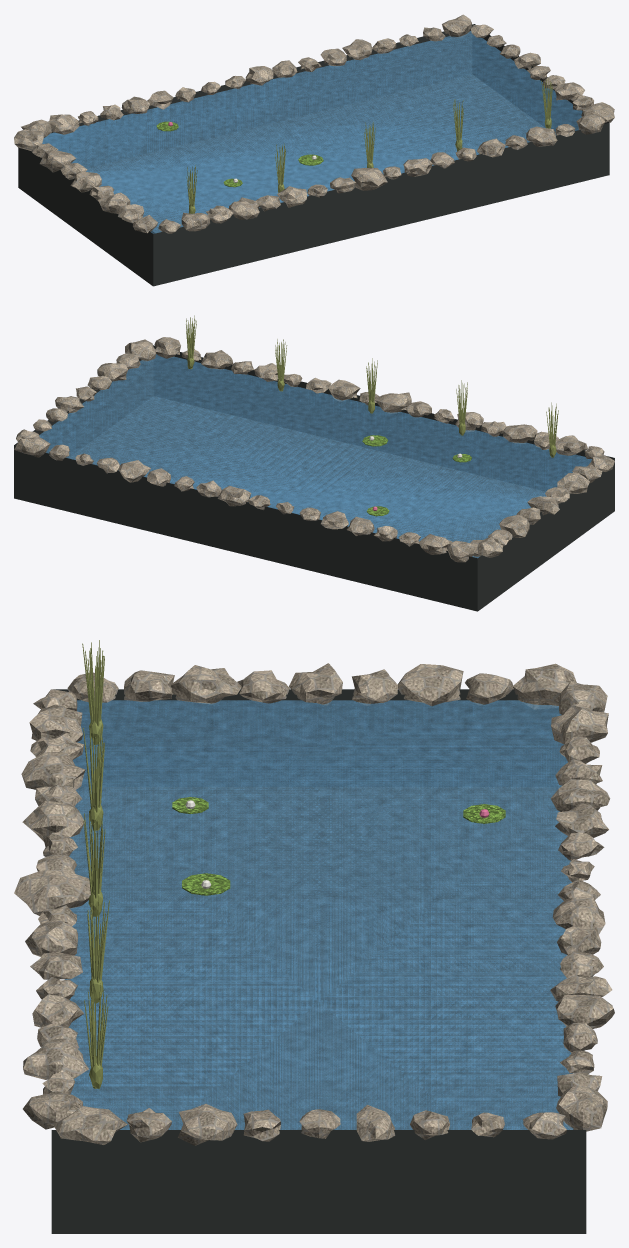
3 renders of one model, top to bottom at view 1: azimuth 30°, elevation 25°; view 2: azimuth 150°, elevation 25°; view 3: azimuth 270°, elevation 25°, orthographic. The views are drawn at different scales.
Parts seen in each view (by area): view 1: water.decorative_pond (×4), trska; view 2: water.decorative_pond (×4), trska (×3); view 3: water.decorative_pond (×4), trska (×5).
Part boxes in pixels (left/top/right/bottom): water.decorative_pond (×4): left=14, top=14, right=614, bottom=286; trska: left=541, top=77, right=552, bottom=128; water.decorative_pond (×4): left=14, top=337, right=614, bottom=611; trska (×3): left=275, top=339, right=558, bottom=457; water.decorative_pond (×4): left=14, top=663, right=614, bottom=1233; trska (×5): left=82, top=640, right=109, bottom=1089.
Size of the model in its own units: 8.73 by 4.72 by 1.75.
7 materials, 3 textured.
